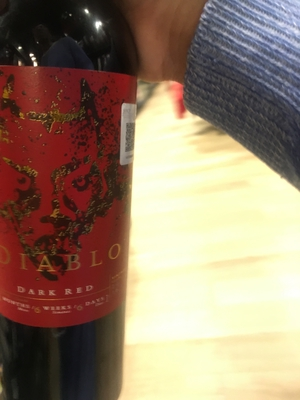diablo dark red: (1, 41, 151, 400)
